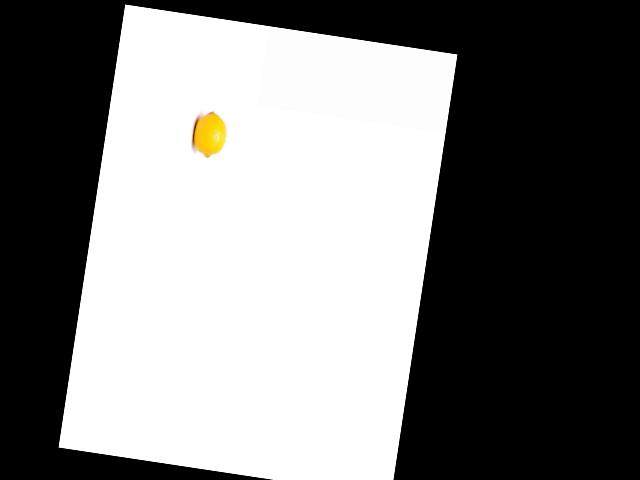lemon: (185, 108, 230, 163)
